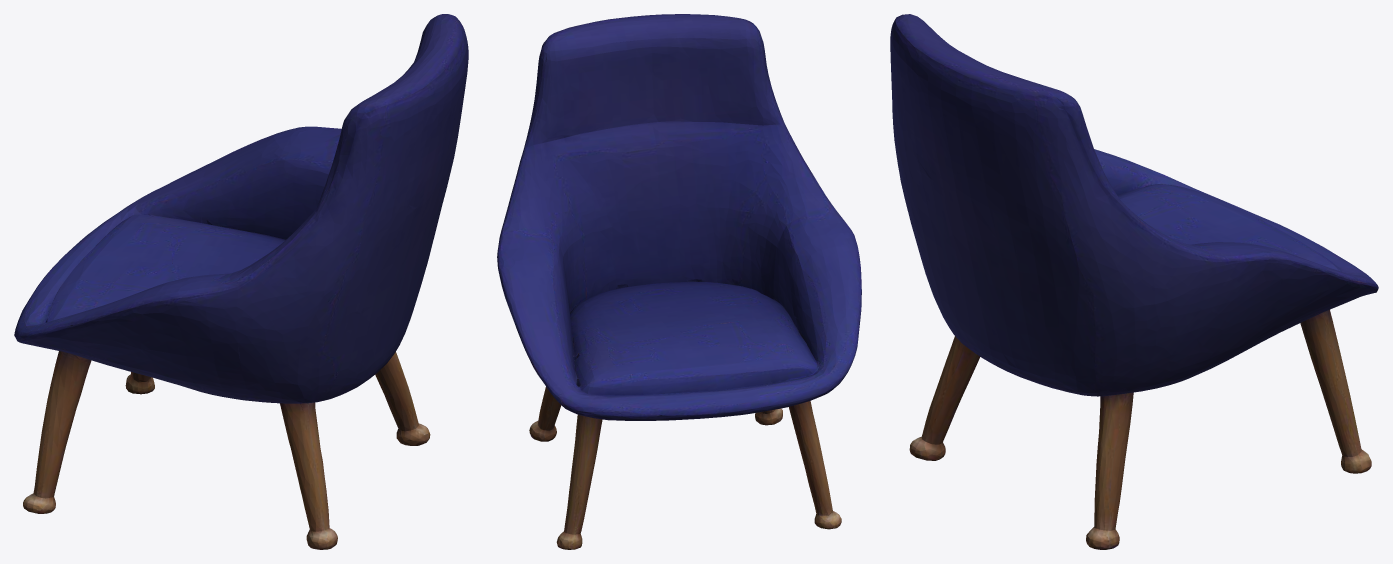
Rendered from blue_armchair_000.glb.
3 views of the same model, side by side, from view 1: azimuth 30°, elevation 25°; view 2: azimuth 150°, elevation 25°; view 3: azimuth 270°, elevation 25° (orthographic). The views are drawn at different scales.
Parts seen in each view (by area): view 1: phase2_final_blue_armchair_000.obj; view 2: phase2_final_blue_armchair_000.obj; view 3: phase2_final_blue_armchair_000.obj.
Boxes of the visible parts, box(x1,y1,x2,y2) form: phase2_final_blue_armchair_000.obj: box(14, 14, 468, 549); phase2_final_blue_armchair_000.obj: box(497, 14, 861, 549); phase2_final_blue_armchair_000.obj: box(890, 14, 1378, 549).
Size of the model in its own units: 0.4019 by 0.4312 by 0.414.
Materials: 1 (1 with a texture image).
